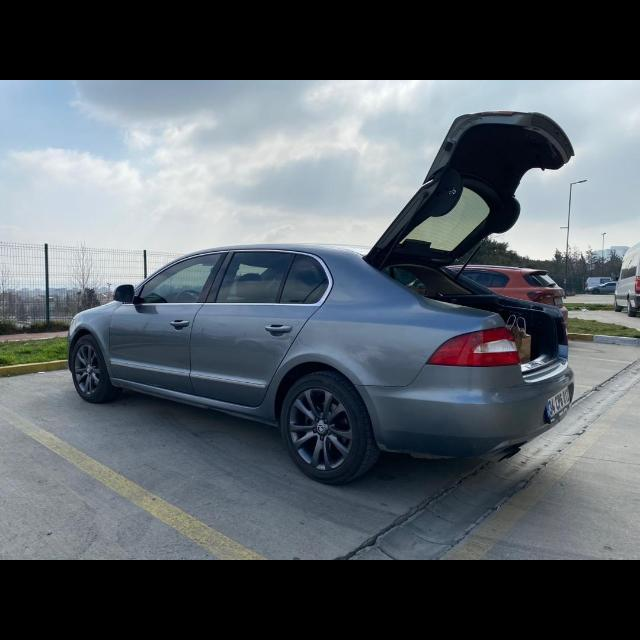Plaka: (546, 386, 572, 419)
